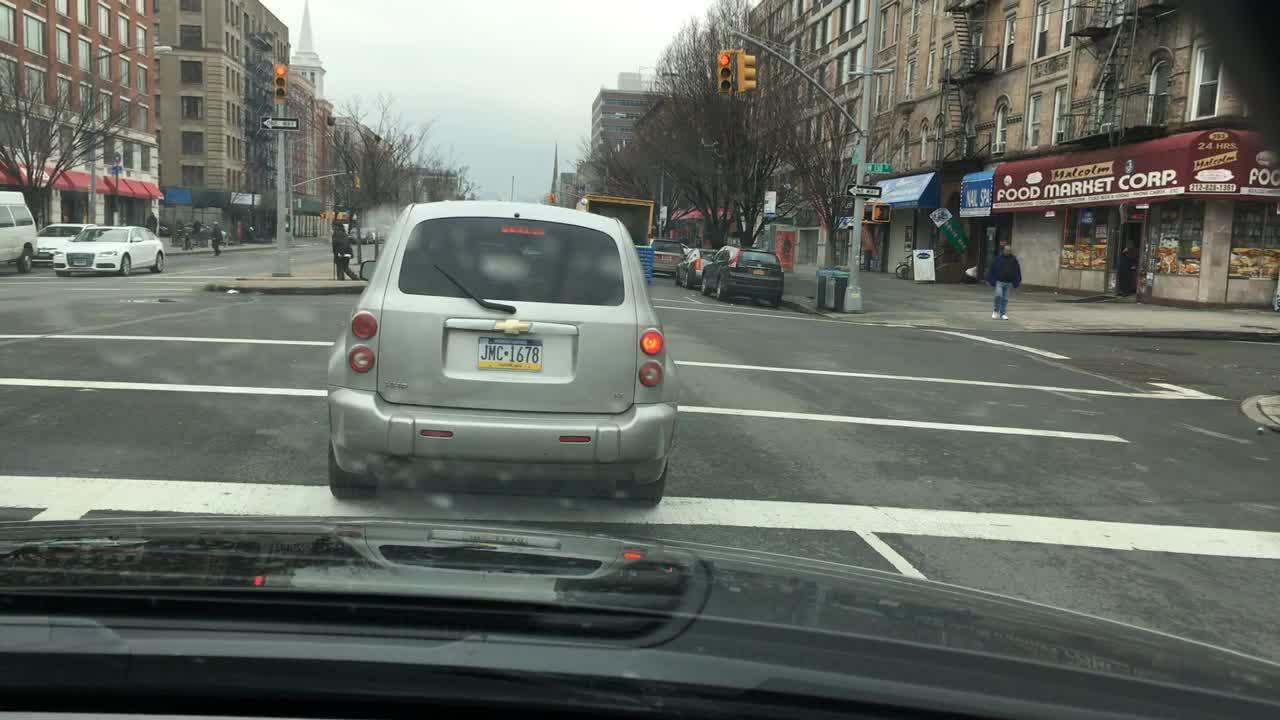chevrolet: (489, 312, 540, 342)
